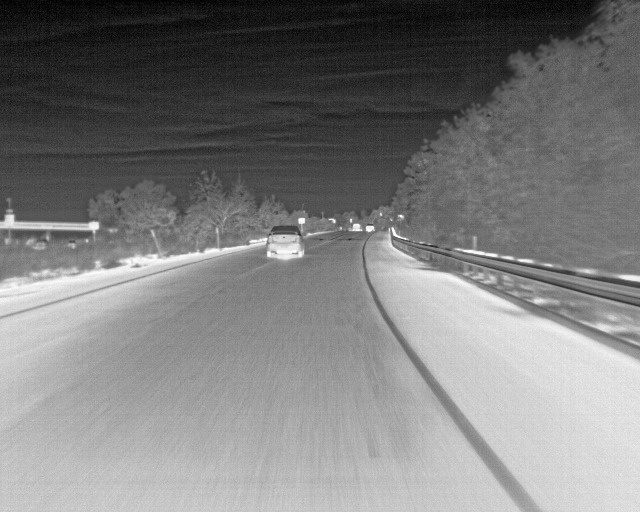vehicle: (266, 224, 303, 261)
